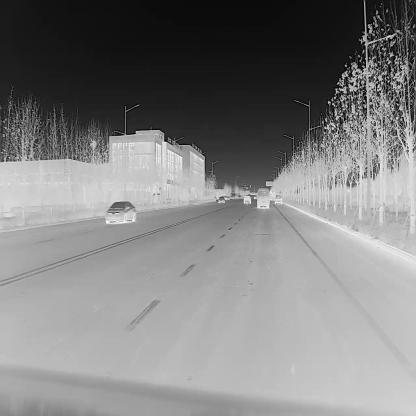car: (104, 199, 137, 223), (242, 193, 252, 204), (274, 194, 282, 204), (218, 195, 225, 203), (222, 194, 230, 200), (252, 194, 258, 200), (270, 195, 275, 201)
truck: (256, 186, 270, 208)
